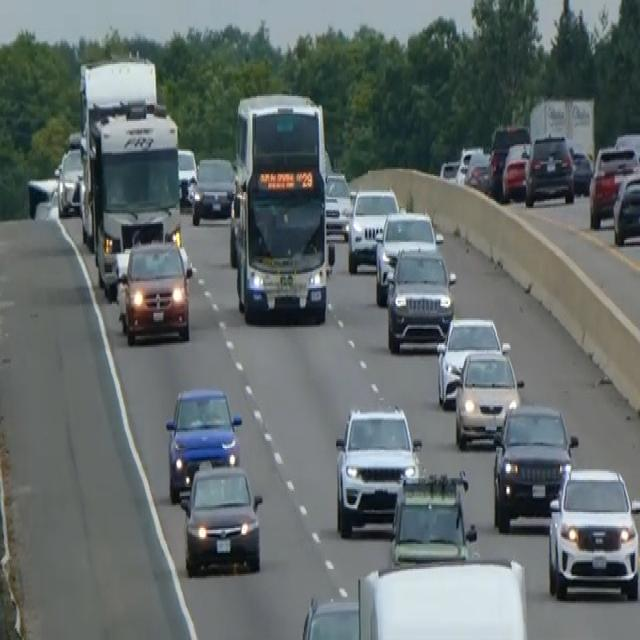bus: (77, 54, 182, 294), (228, 89, 330, 325)
car: (546, 464, 639, 601), (334, 402, 422, 537), (491, 400, 578, 532), (179, 462, 263, 576), (164, 384, 242, 501), (388, 468, 478, 566), (116, 236, 192, 345), (385, 242, 456, 354), (453, 345, 523, 448), (435, 315, 509, 409), (374, 208, 442, 306), (347, 185, 399, 272), (588, 142, 638, 228), (524, 132, 575, 206), (190, 154, 235, 226), (299, 594, 360, 638), (612, 169, 639, 245), (56, 146, 84, 217), (500, 139, 532, 201), (324, 169, 352, 238), (26, 174, 57, 219), (176, 146, 197, 206), (464, 149, 492, 194), (569, 146, 593, 194), (455, 144, 481, 185), (614, 130, 639, 170), (439, 156, 459, 182)
lorry: (356, 555, 529, 638)
